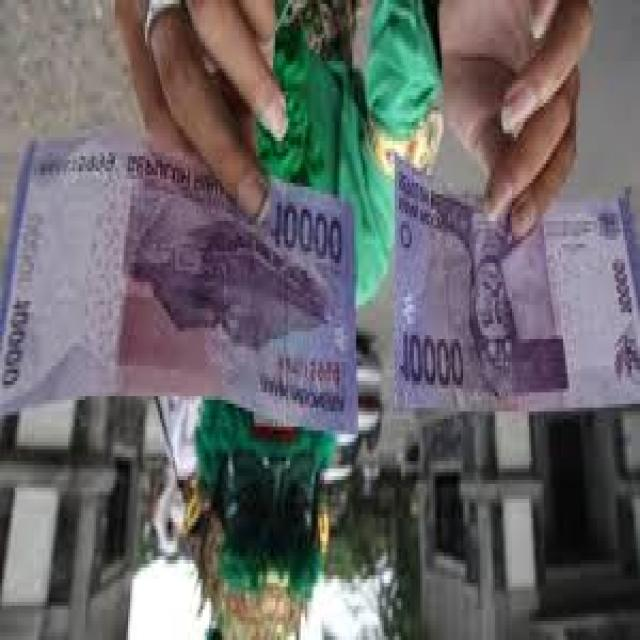sepuluh ribu rupiah: (0, 138, 359, 437), (395, 155, 640, 410)
